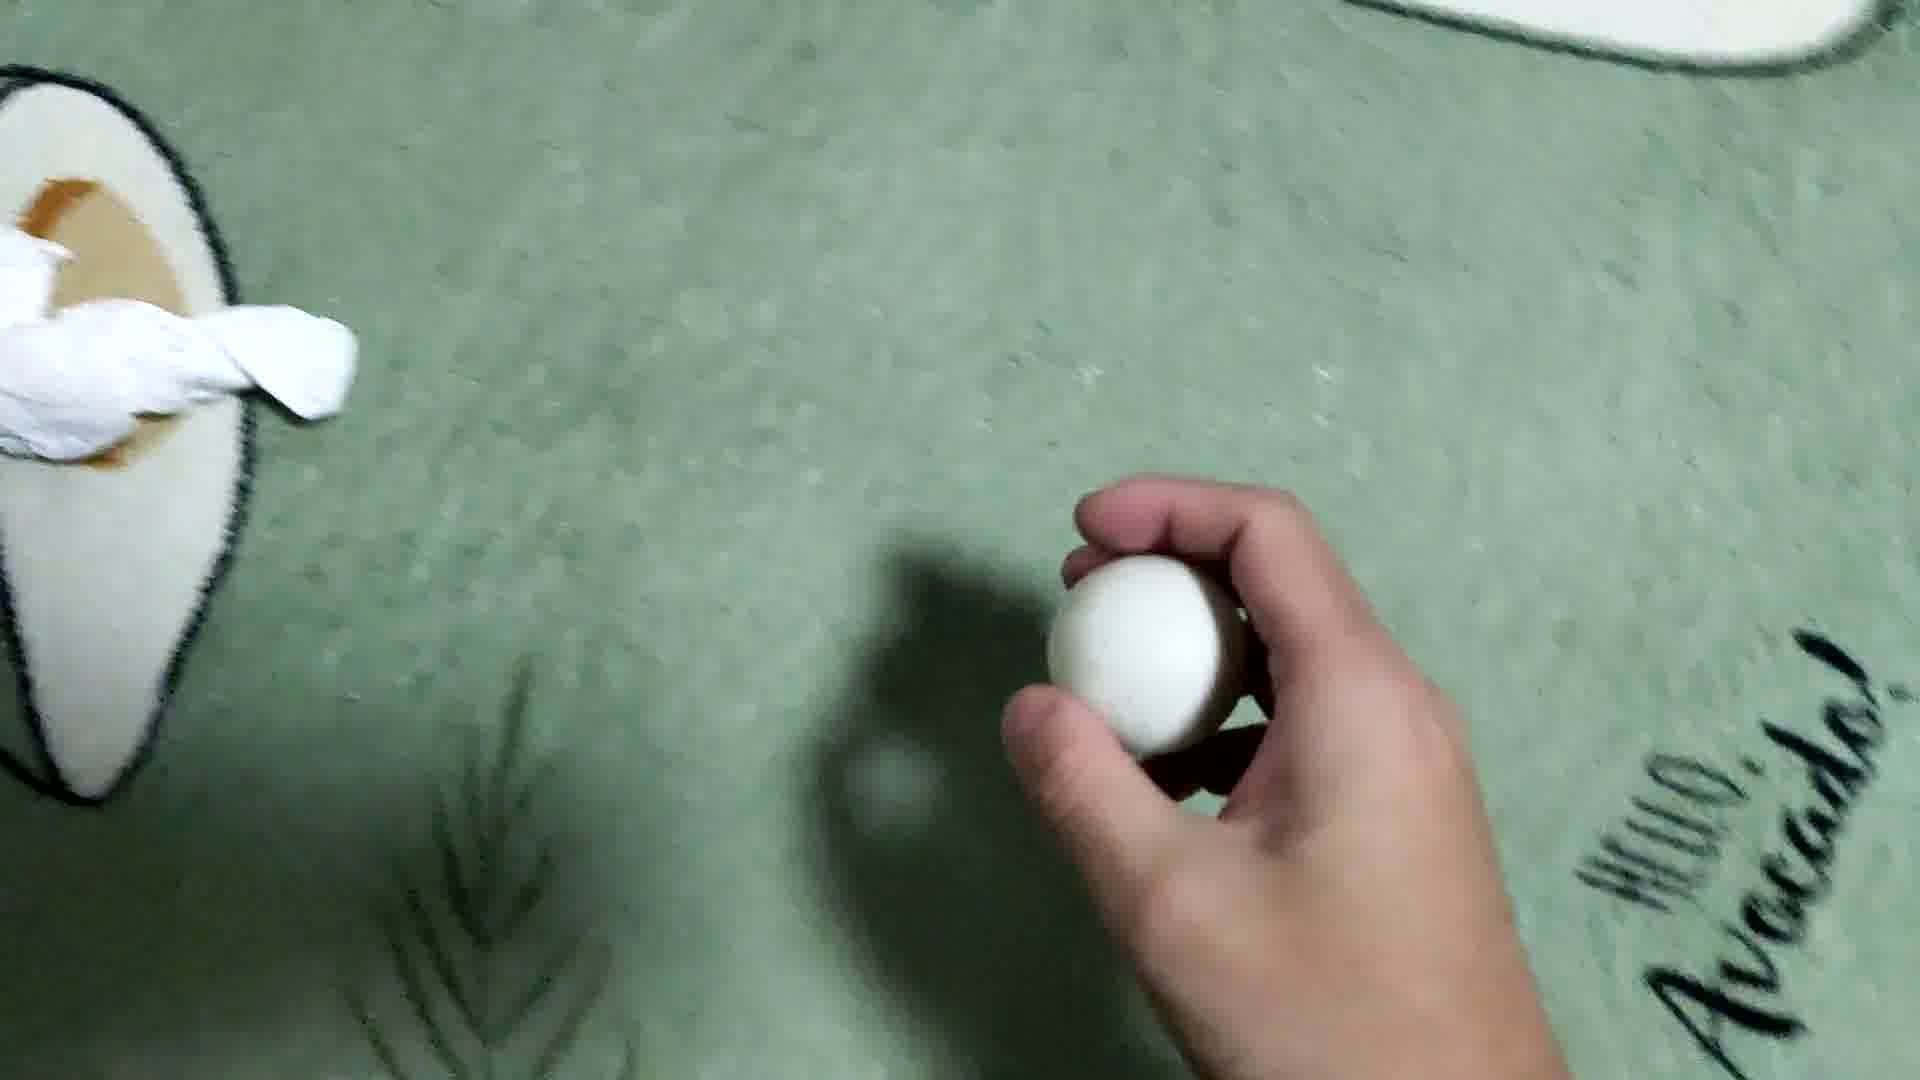Ball: (1040, 550, 1246, 753)
